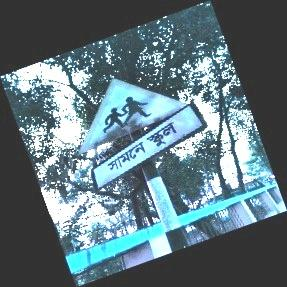School-in-front: (80, 79, 205, 191)
